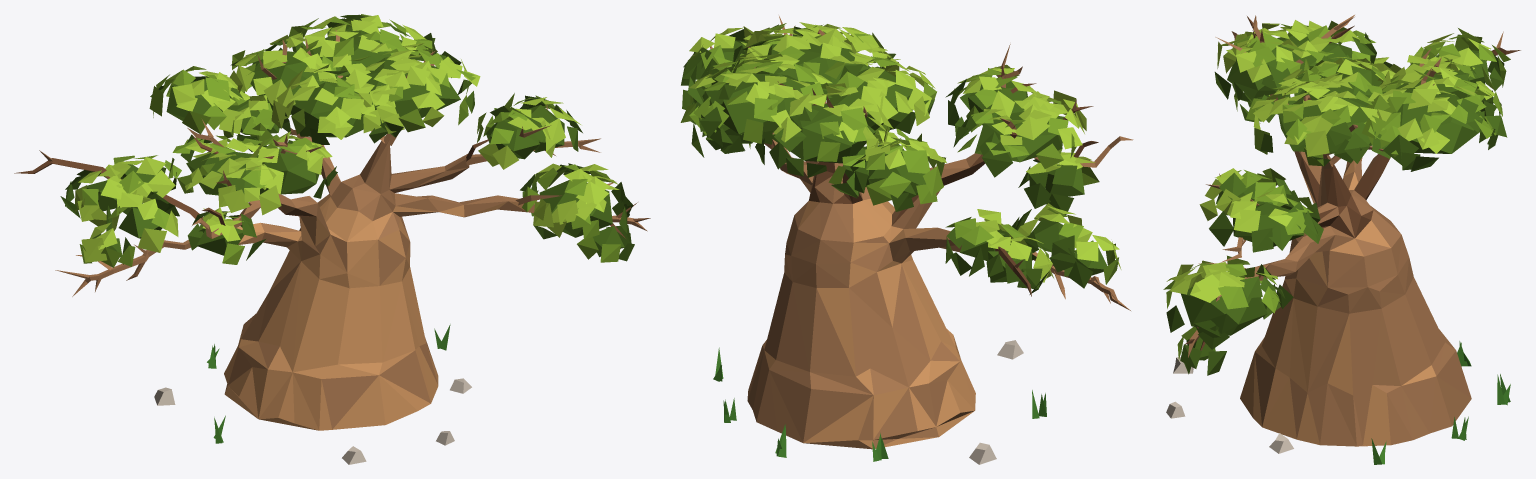
The model's file is baobab_bloom.glb.
3 renders of one model, left to right at view 1: azimuth 30°, elevation 25°; view 2: azimuth 150°, elevation 25°; view 3: azimuth 270°, elevation 25°, orthographic. The views are drawn at different scales.
Parts seen in each view (by area): view 1: baobab_bloom; view 2: baobab_bloom; view 3: baobab_bloom.
Part boxes in pixels (x1,y1,x2,y2): baobab_bloom: (14, 14, 650, 464); baobab_bloom: (680, 16, 1133, 464); baobab_bloom: (1163, 15, 1520, 464).
Size of the model in its own units: 9.48 by 5.88 by 5.56.
